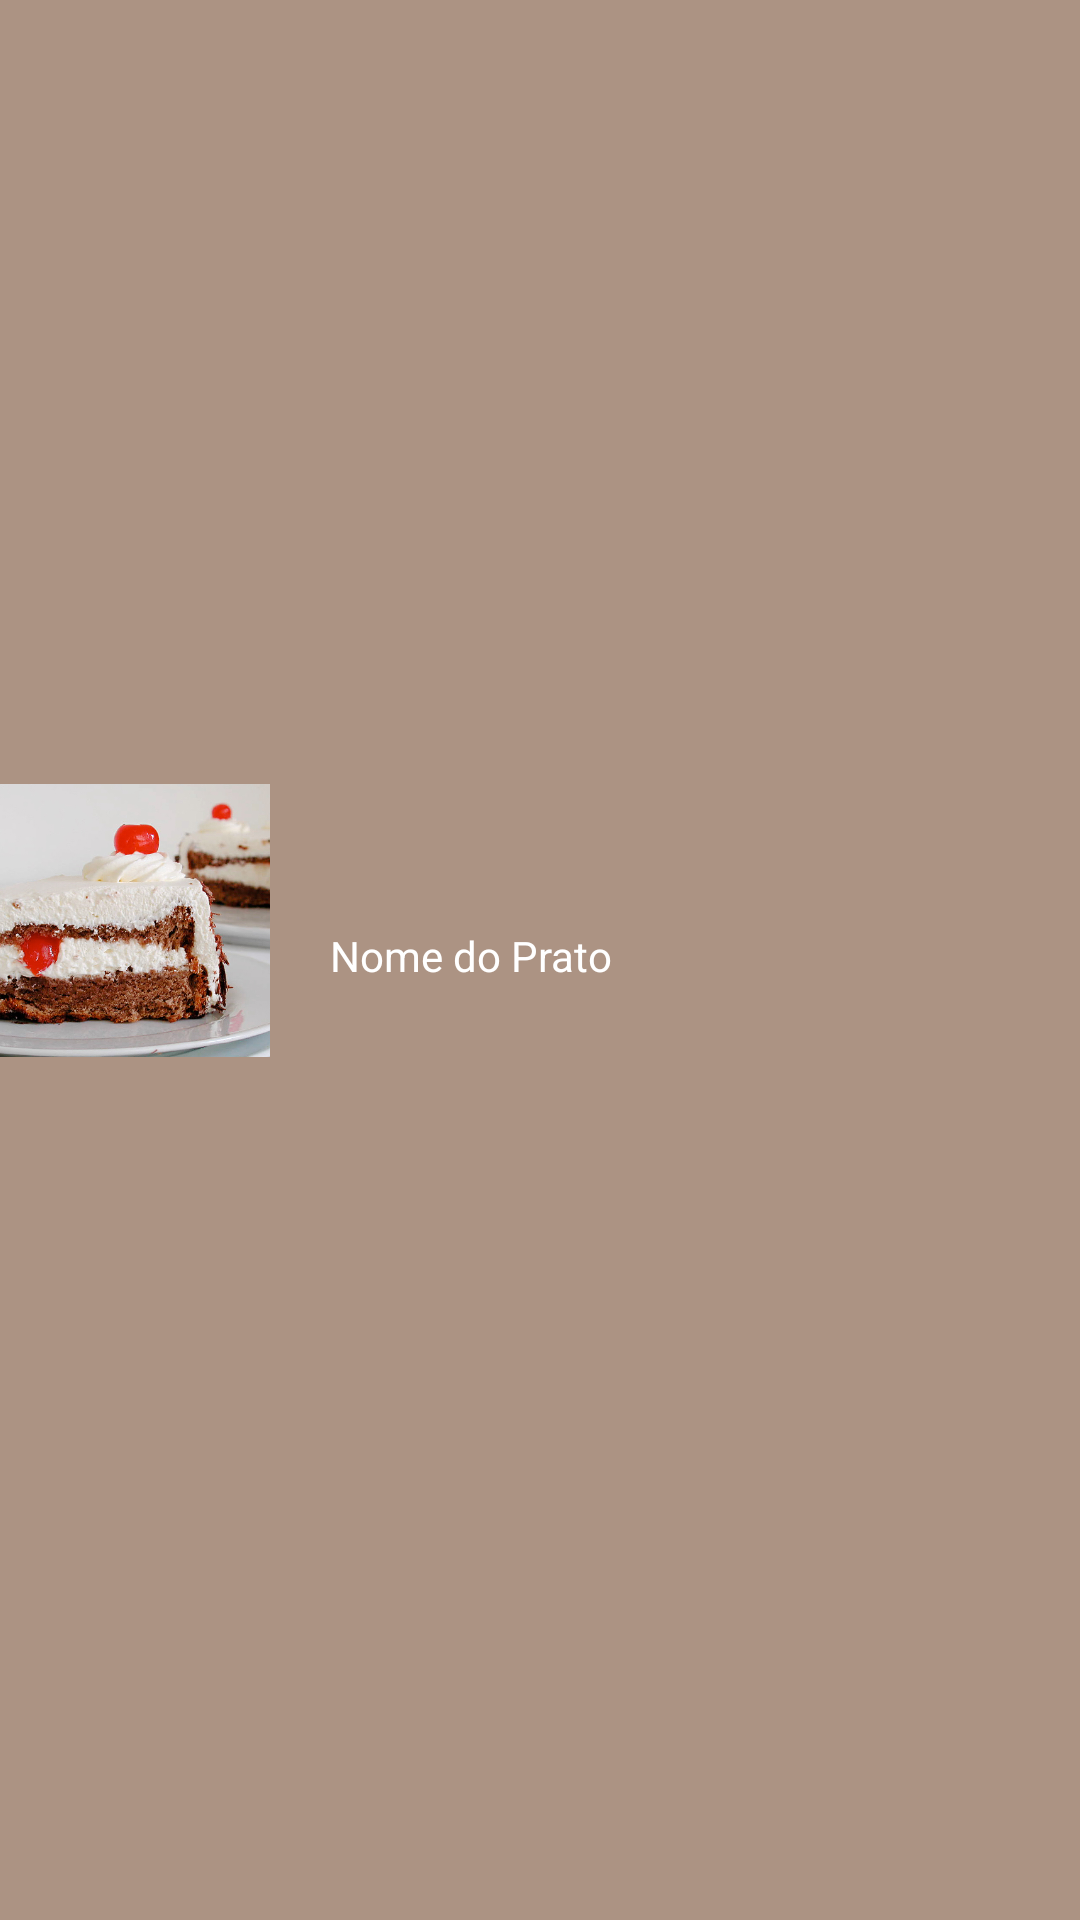

Named icons in this screenshot (1080px x 1920px) and their bounding boxes, (x1, y1, x2, y2):
bolo: (0, 784, 270, 1057)
